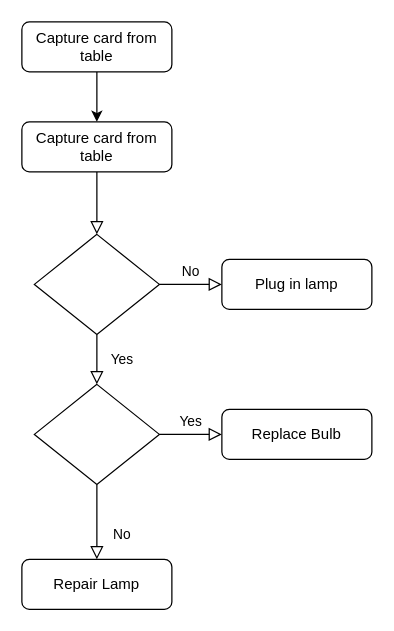
The diagram is 394 pixels wide and 631 high, and some of its shapes have lost their labels. The centre of each missing label's shape, as x and y in pixels:
Bulb burned out?: the point at 96,433
Lamp plugged in?: the point at 96,283
